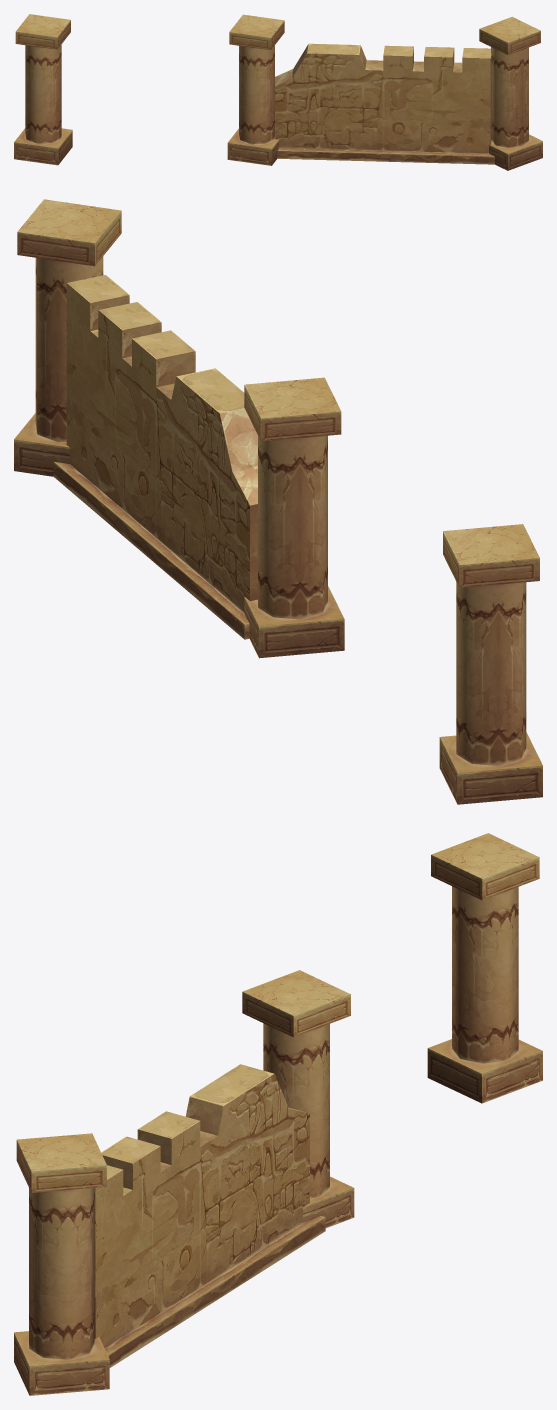
Rendered from Area_15_12.fbx.
The picture shows the model from 3 angles, top to bottom: view 1: azimuth 30°, elevation 25°; view 2: azimuth 150°, elevation 25°; view 3: azimuth 270°, elevation 25°; orthographic projection. The views are drawn at different scales.
Parts seen in each view (by area): view 1: Area_15_12; view 2: Area_15_12; view 3: Area_15_12.
Part boxes in pixels (box(x1,y1,x2,y2)): Area_15_12: box(14, 14, 542, 170); Area_15_12: box(14, 199, 542, 804); Area_15_12: box(14, 833, 542, 1395).
Size of the model in its own units: 1340 by 410 by 879.
